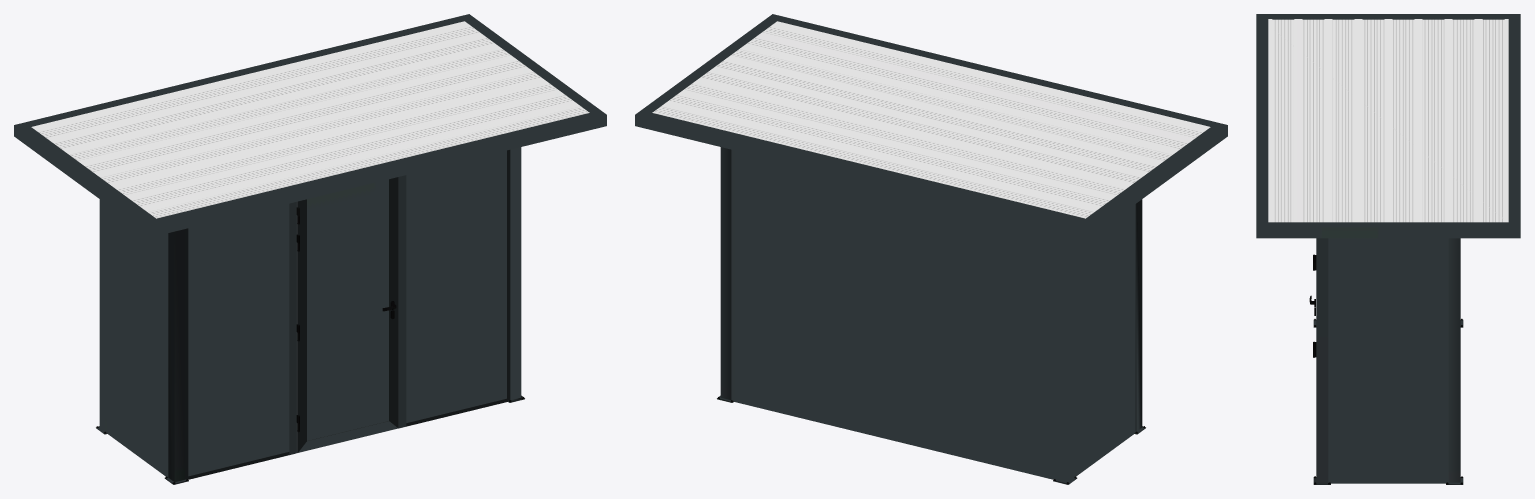
The picture shows the model from 3 angles, left to right: view 1: azimuth 30°, elevation 25°; view 2: azimuth 150°, elevation 25°; view 3: azimuth 270°, elevation 25°; orthographic projection. The views are drawn at different scales.
Parts seen in each view (by area): view 1: priximbattable_net_abris_de_rangement_640002_abri_de_rangeme, folha, porta; view 2: priximbattable_net_abris_de_rangement_640002_abri_de_rangeme; view 3: priximbattable_net_abris_de_rangement_640002_abri_de_rangeme.
Boxes of the visible parts, x1,y1,x2,y2 form: priximbattable_net_abris_de_rangement_640002_abri_de_rangeme: (14, 14, 606, 484); folha: (296, 177, 398, 452); porta: (289, 175, 406, 454); priximbattable_net_abris_de_rangement_640002_abri_de_rangeme: (635, 14, 1227, 484); priximbattable_net_abris_de_rangement_640002_abri_de_rangeme: (1256, 14, 1520, 484).
Bounding box in the file's own units: 420 × 259 × 220.
1 material, 1 textured.
